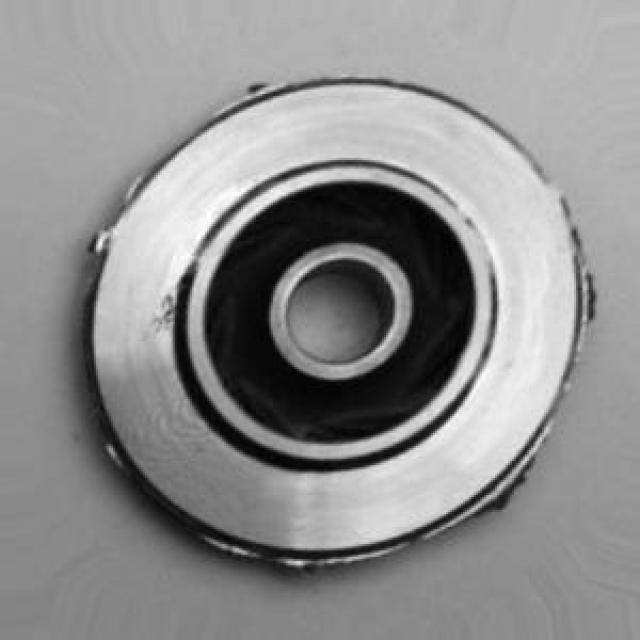Defect: (573, 247, 610, 348)
